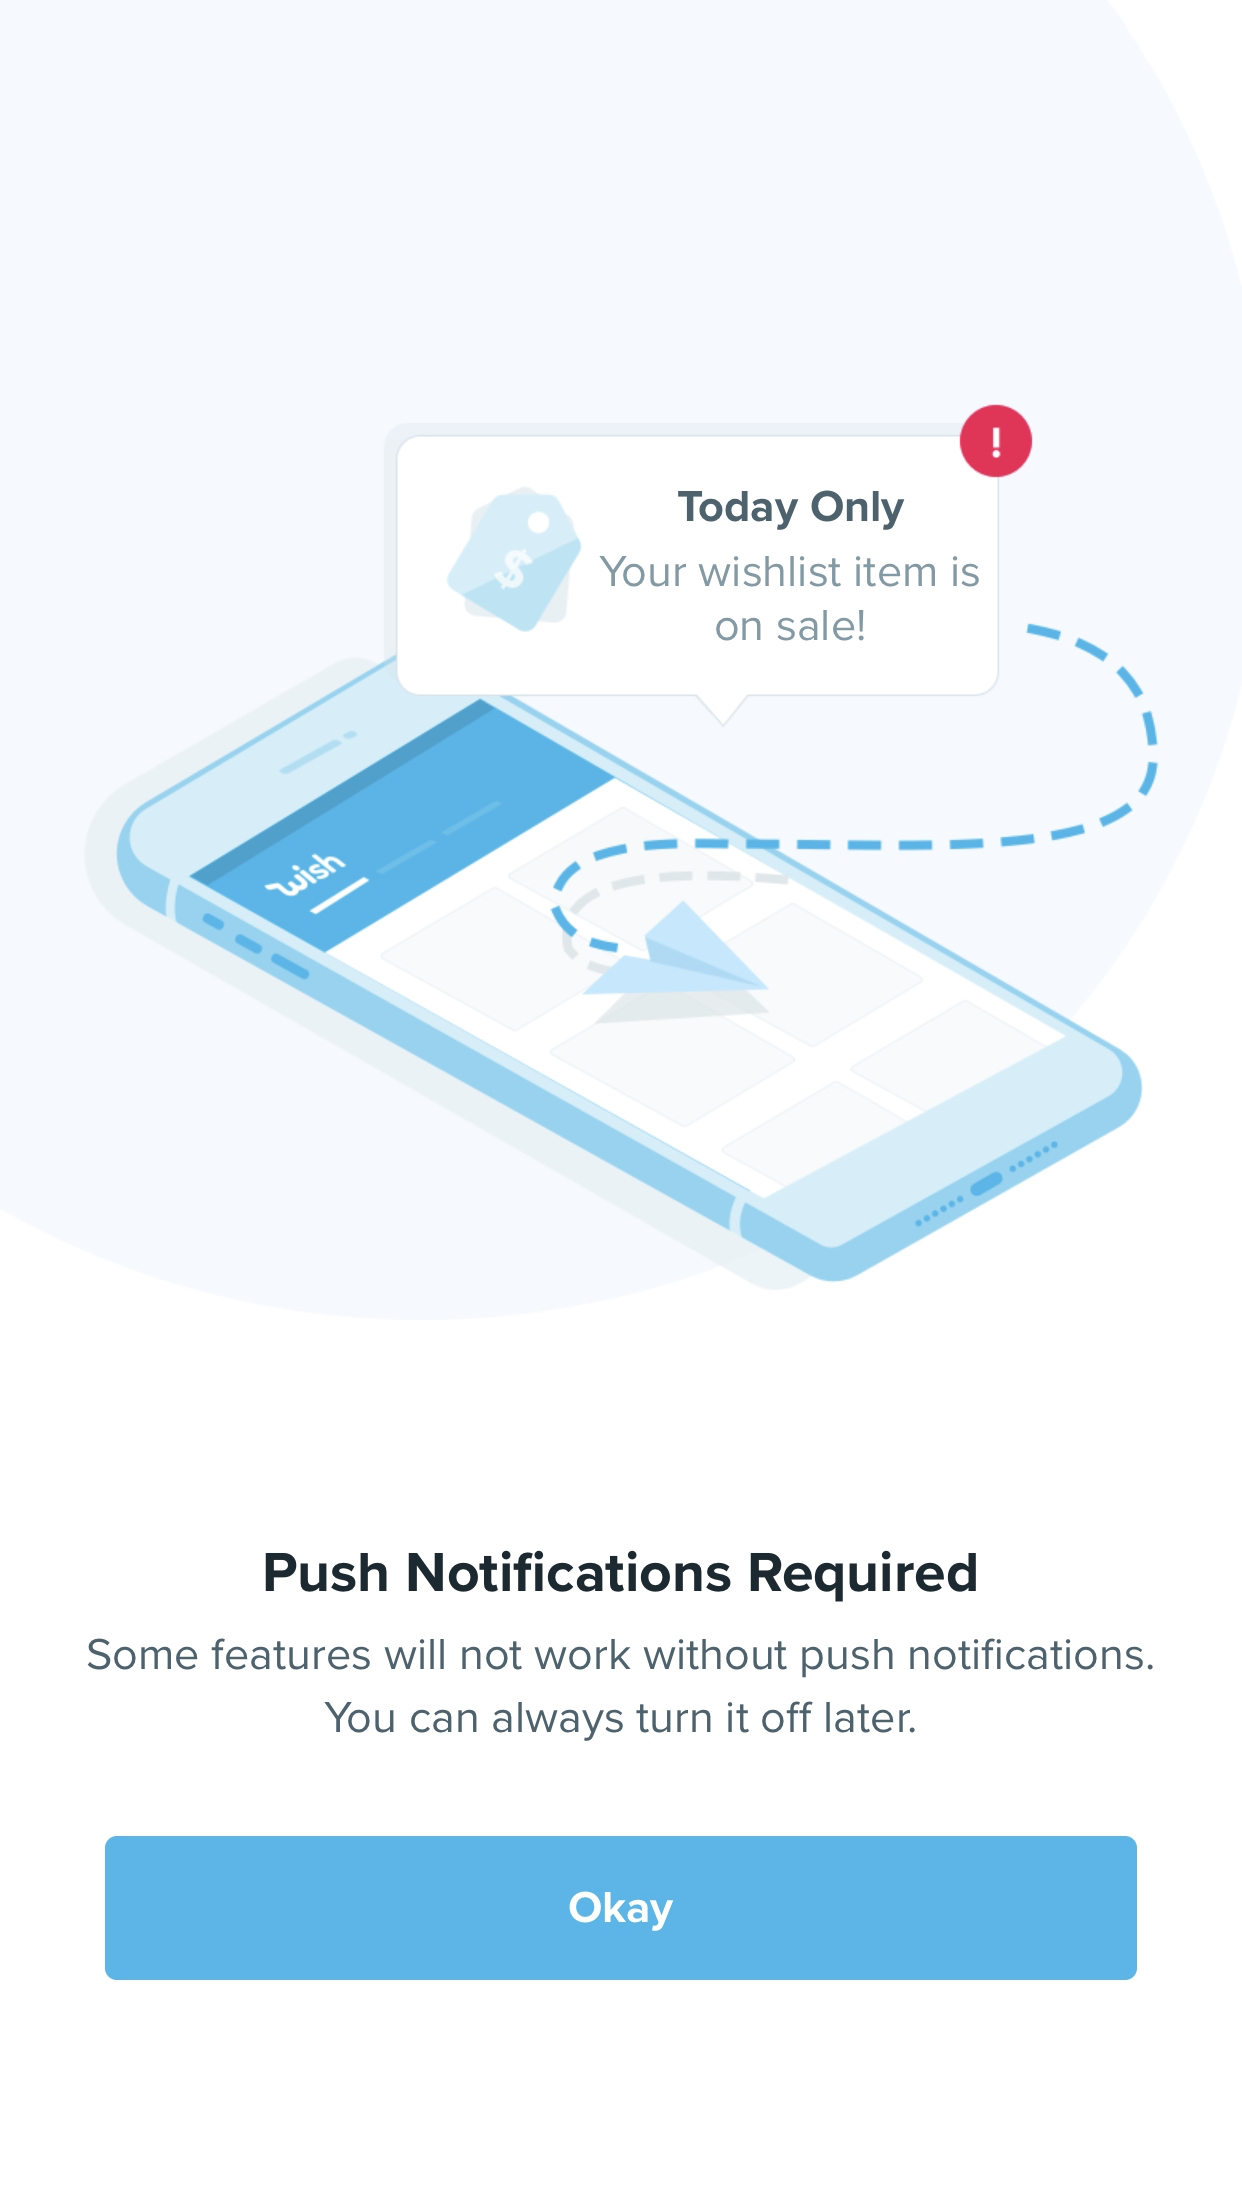Image: (82, 402, 1162, 1294)
Text: (86, 1636, 1154, 1742), (265, 1550, 978, 1603)
TextButton: (105, 1836, 1137, 1981)
